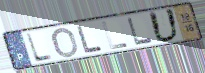L: (25, 32, 54, 64), (125, 16, 155, 46), (76, 24, 105, 55), (101, 20, 130, 51)
O: (51, 27, 80, 59)
U: (147, 8, 181, 44)
